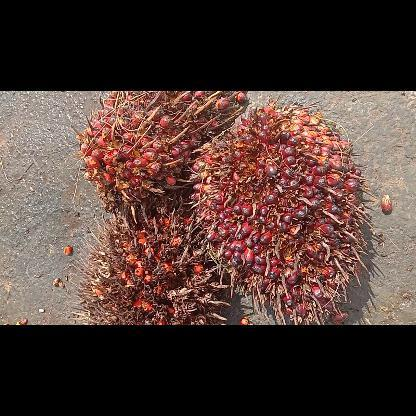TBS masak: (189, 94, 374, 324), (73, 91, 243, 223)
Terlalu masak: (69, 208, 231, 324)
